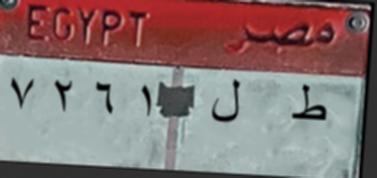1: (134, 82, 156, 124)
2: (51, 73, 76, 116)
6: (90, 76, 118, 121)
7: (8, 74, 36, 114)
Taa: (286, 82, 332, 132)
laam: (208, 75, 247, 130)
